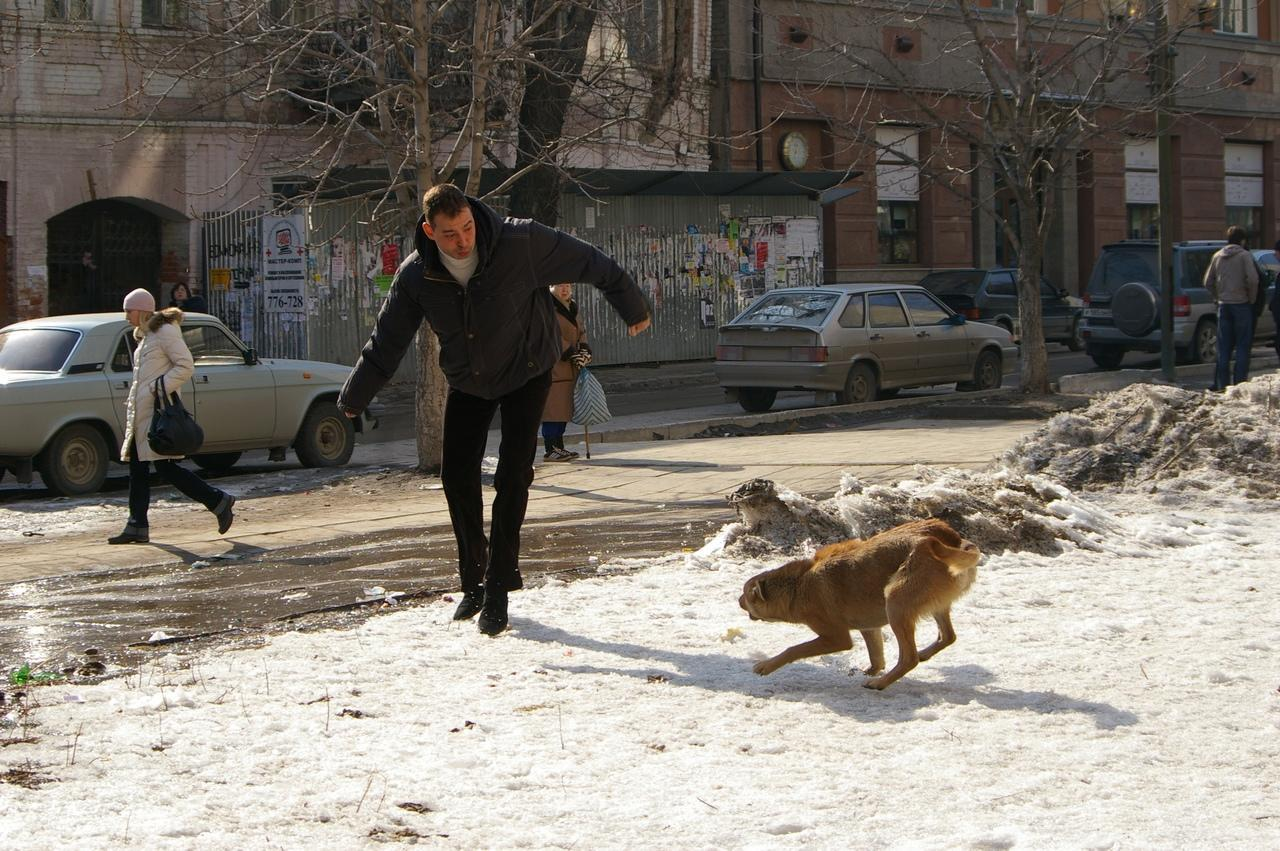dog_aggressive: (727, 495, 993, 708)
